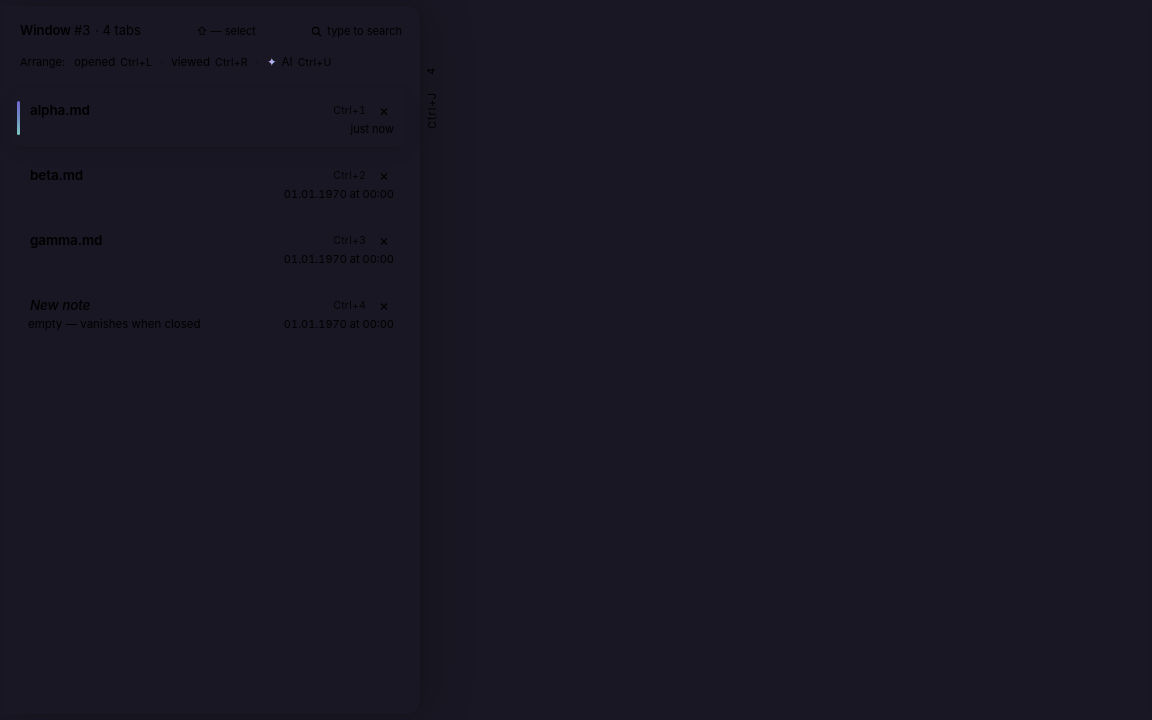
Test: TabDrawer — the window carousel (plan 05) › InKeysModeAPressOffTheThumbnailsCancels_OnOneItDoesNot
Press g in the element named "Tabs of window #3", box [12,89,406,331]
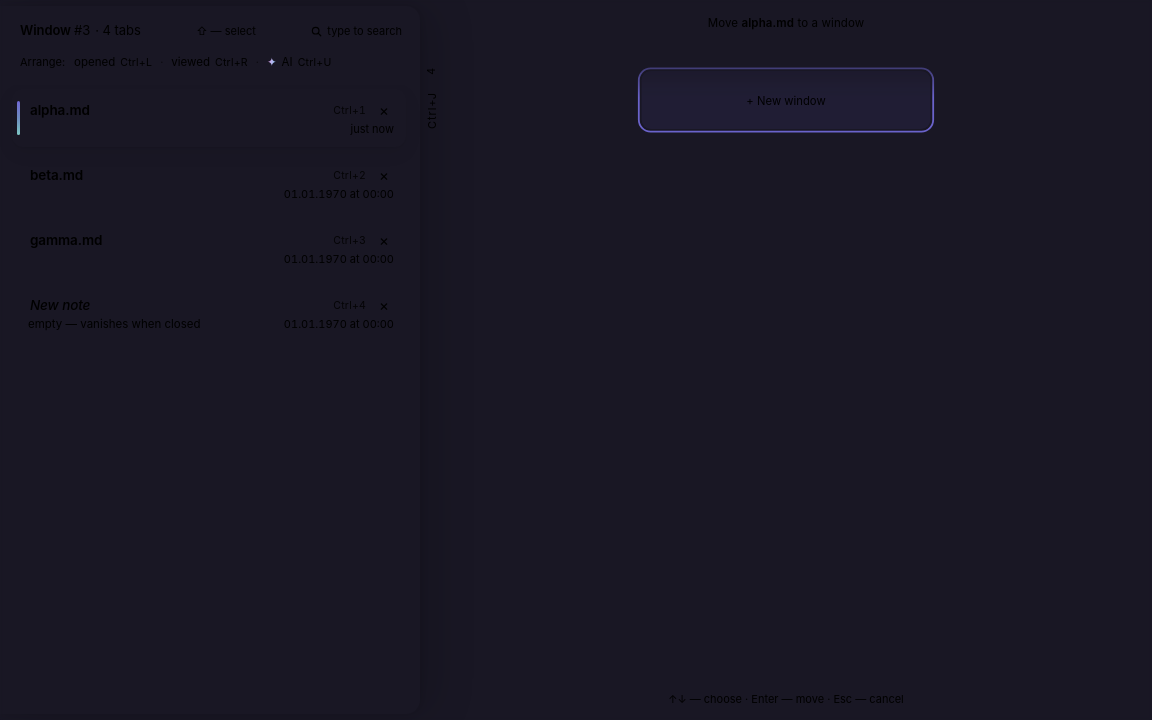
Press the mouse on the option "+ New window" at (786, 100), box [642,71,930,129]
Result: the element with class "carousel" is shown at [642,16,930,706]
Press the mouse on the element with class "car-view" at (786, 100), box [642,71,930,129]
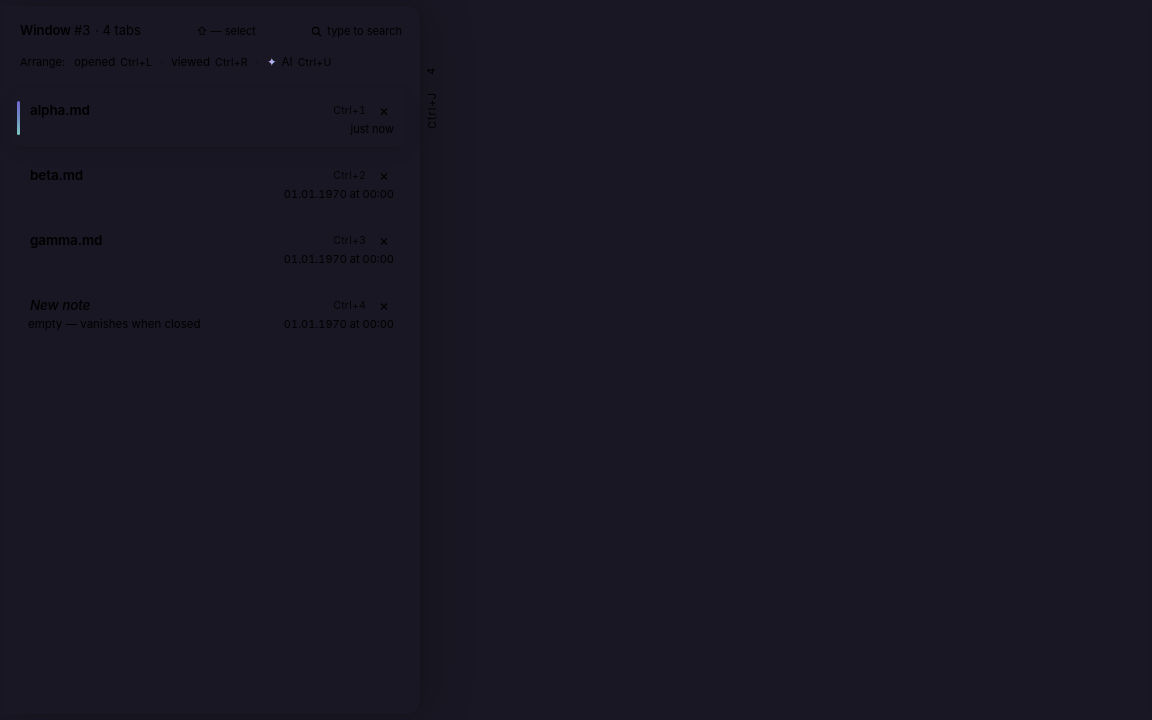
Result: the element with class "carousel" is gone
